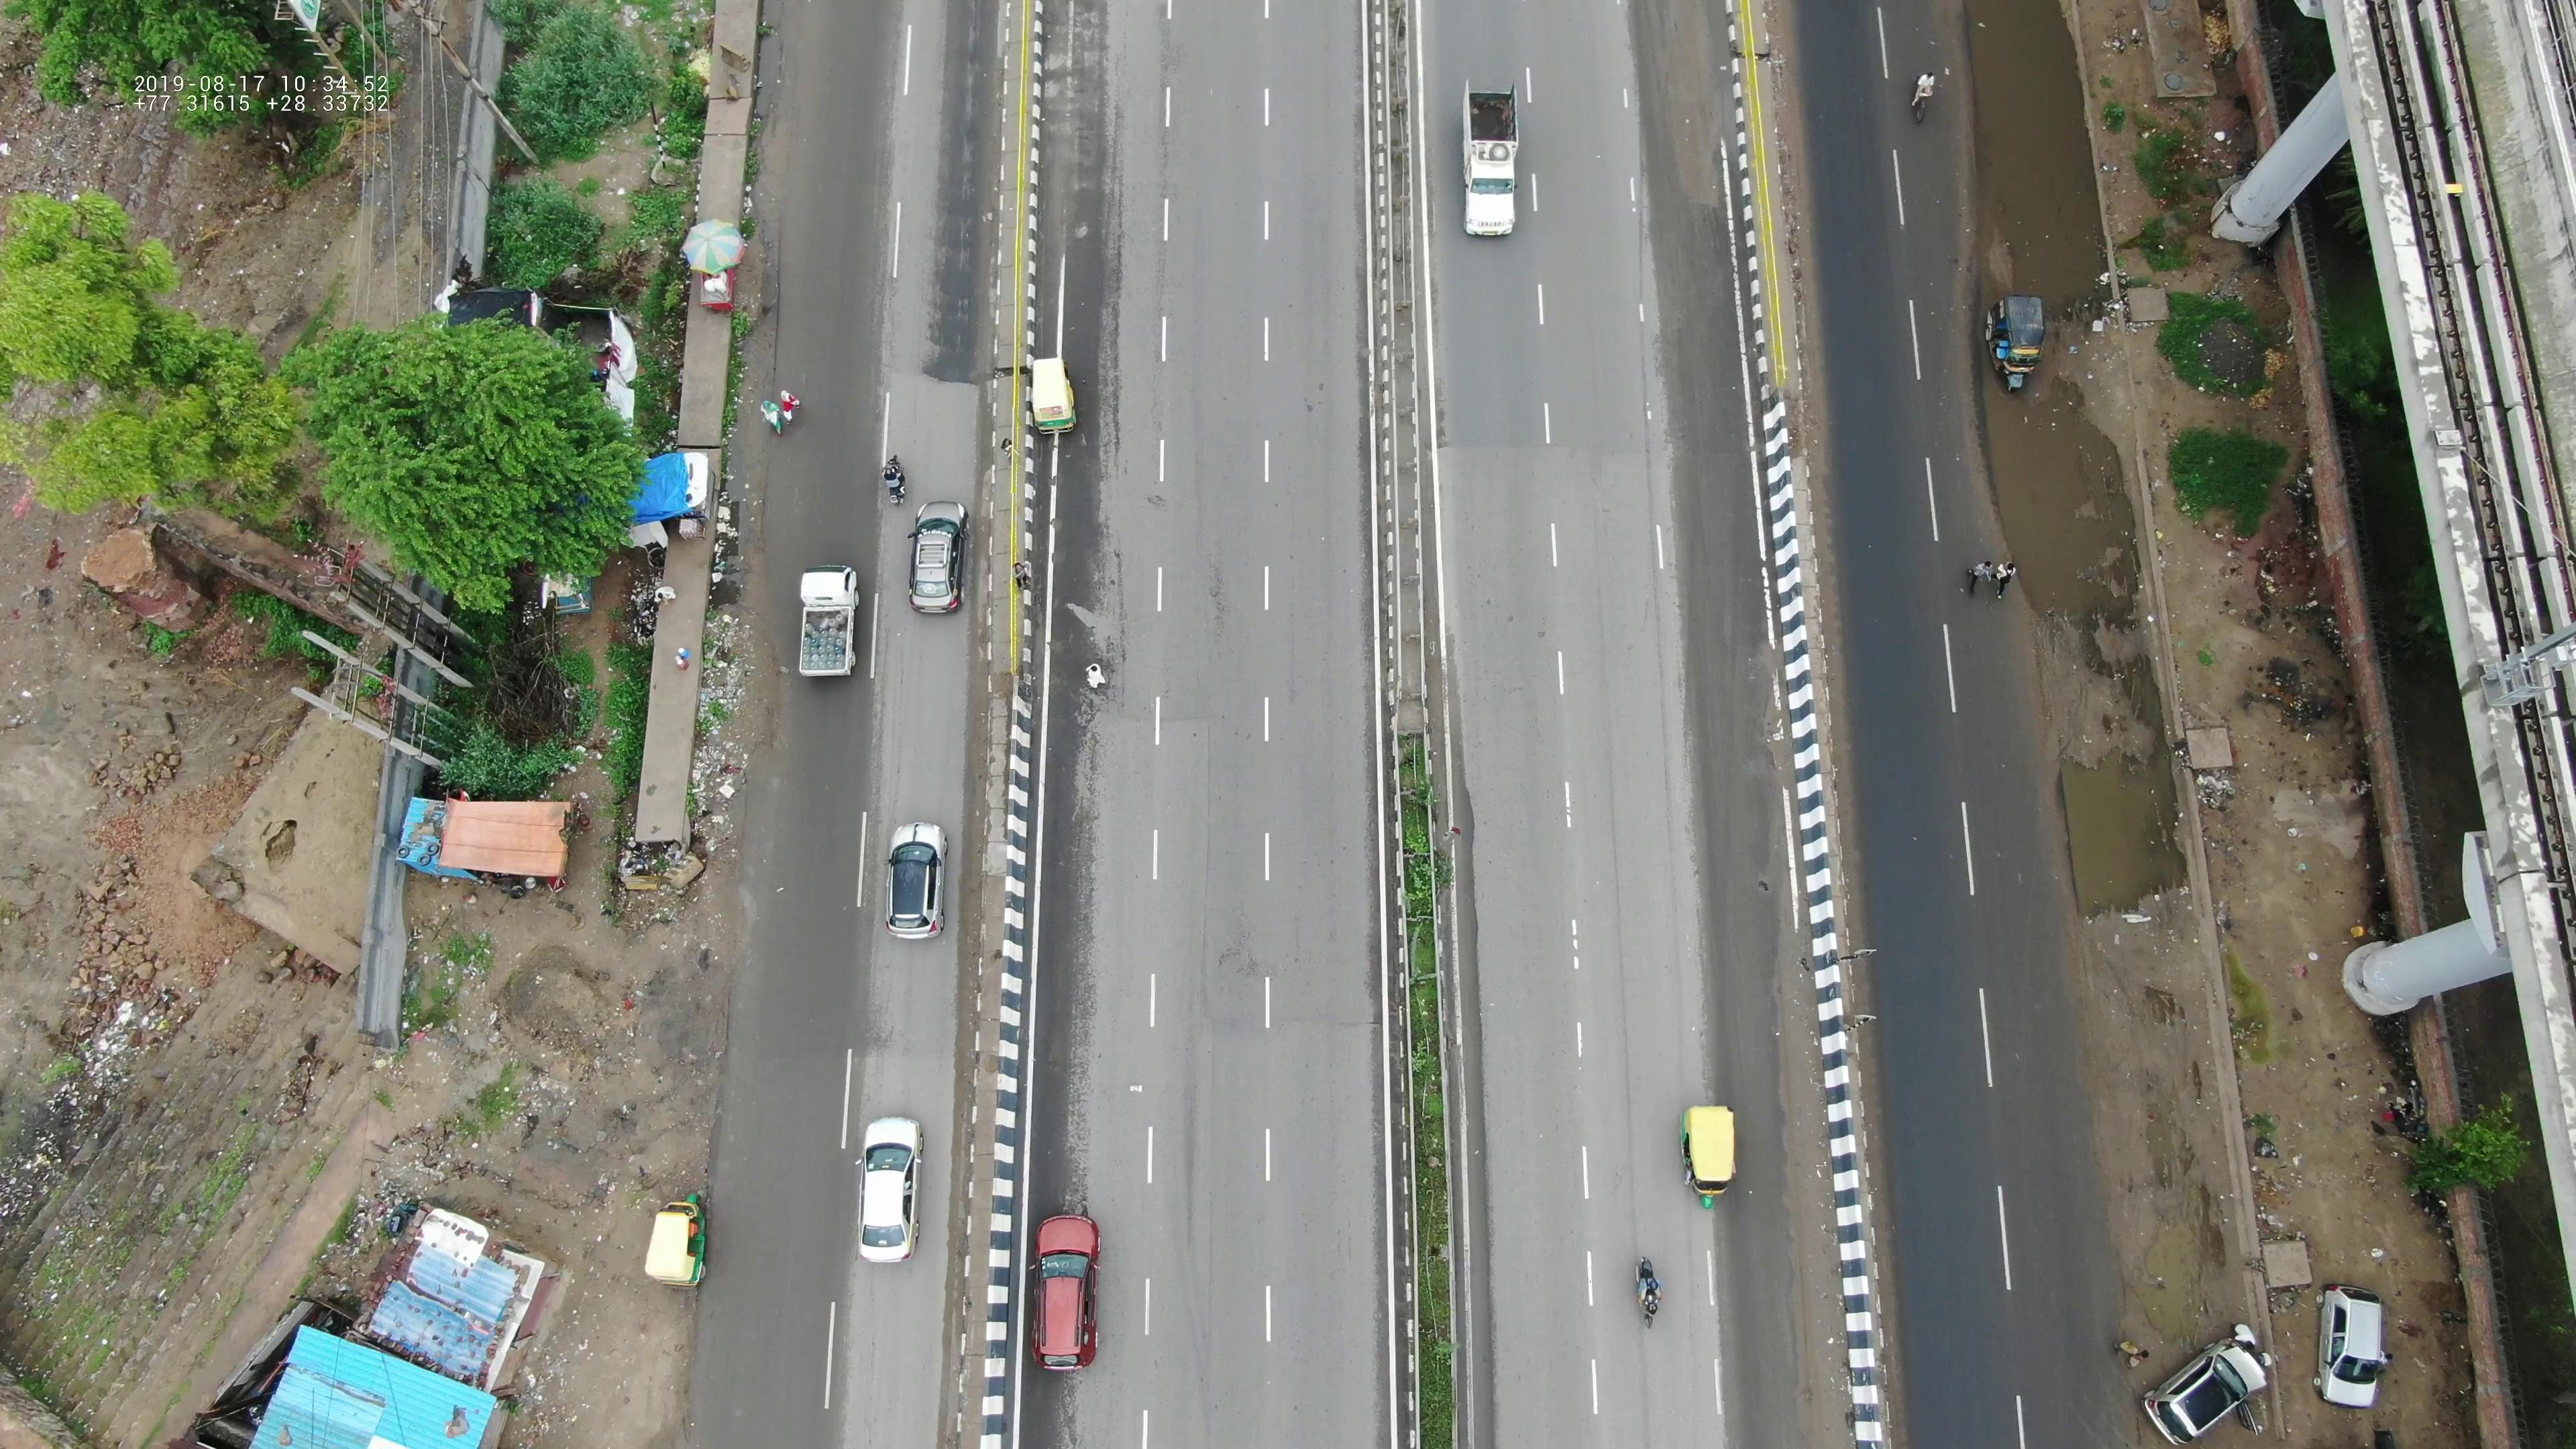Ravelling: (1189, 533, 1242, 671), (1196, 922, 1284, 984)
Waterlogging: (1934, 14, 2143, 640), (2038, 667, 2171, 936)
